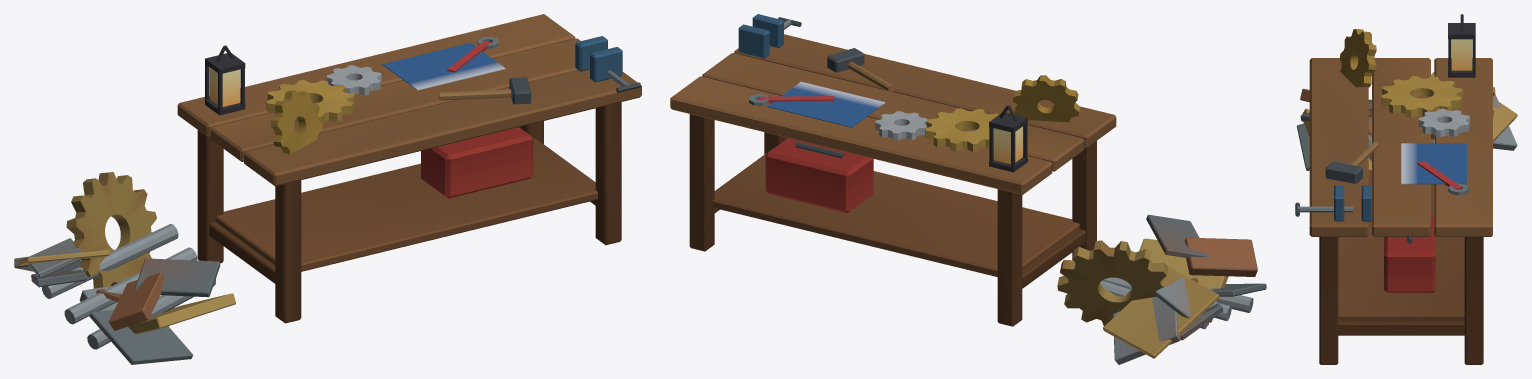
The model's file is workbench.glb.
3 renders of one model, left to right at view 1: azimuth 30°, elevation 25°; view 2: azimuth 150°, elevation 25°; view 3: azimuth 270°, elevation 25°, orthographic. The views are drawn at different scales.
Parts seen in each view (by area): view 1: workbench, workbench_glow; view 2: workbench, workbench_glow; view 3: workbench, workbench_glow.
Part boxes in pixels (x1,y1,x2,y2): workbench: [14, 14, 641, 364]; workbench_glow: [210, 67, 240, 106]; workbench: [670, 14, 1266, 364]; workbench_glow: [994, 126, 1022, 164]; workbench: [1295, 14, 1517, 364]; workbench_glow: [1451, 39, 1472, 70].
Size of the model in its own units: 3.4 by 1.36 by 1.29.
